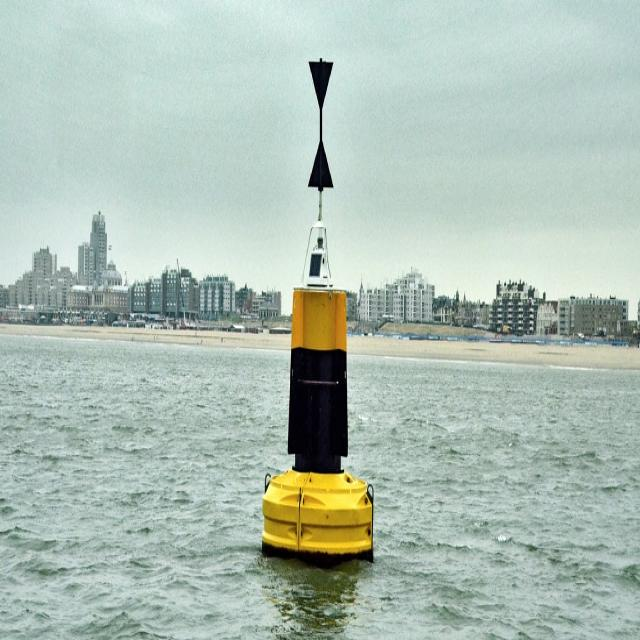marque: (251, 34, 386, 571)
